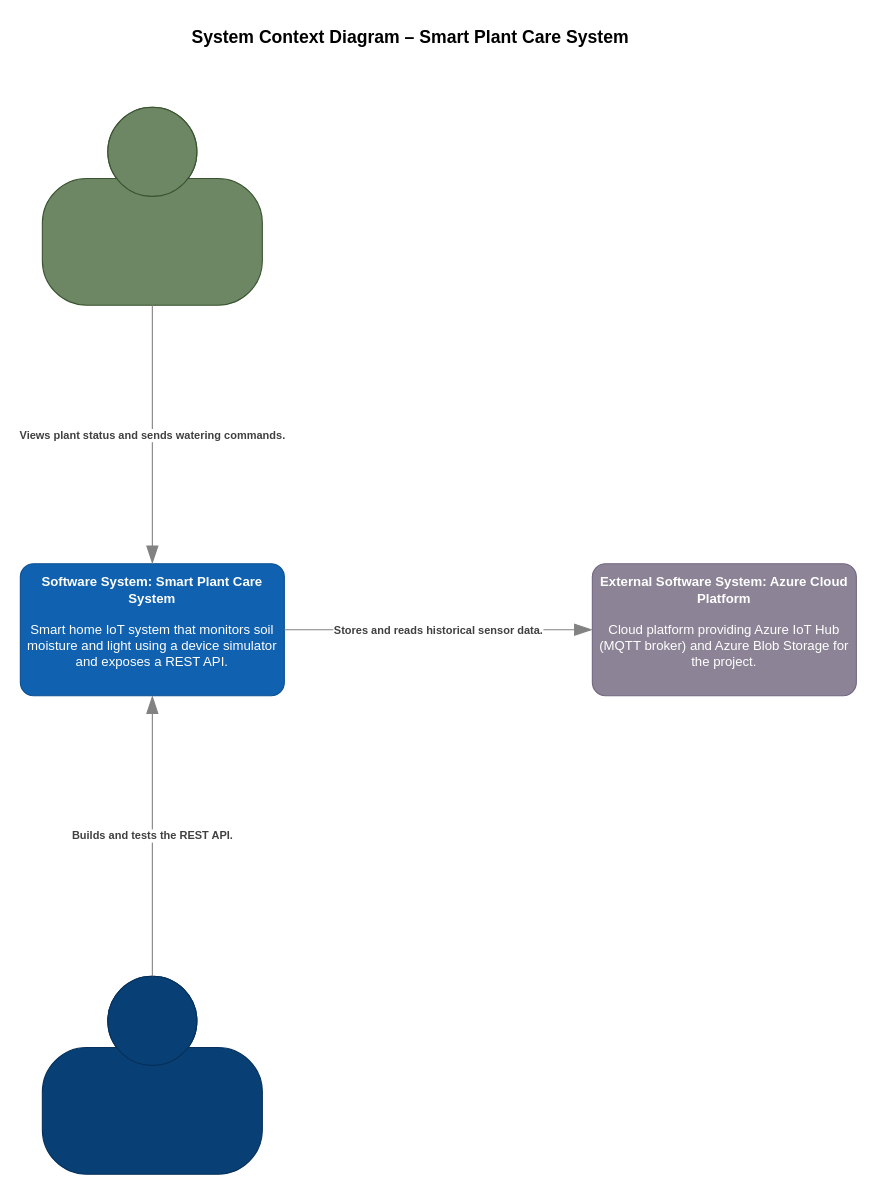
This 876x1194 diagram has some shape labels left out. Here are the shapes that lost their labels. From the top down, the box of each, then its label:
(41, 106, 262, 305): Home User A home user who views plant status and sends watering commands.
(41, 975, 262, 1174): Developer A developer who builds and tests the REST API.
